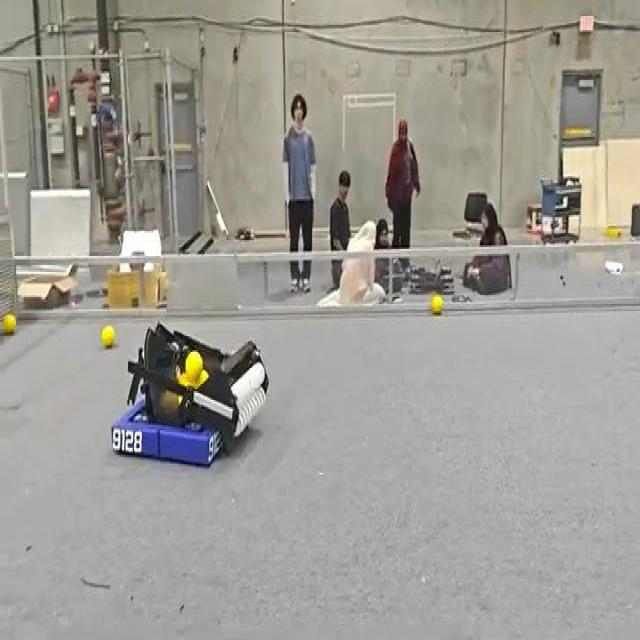Fuel: (184, 350, 202, 382), (101, 325, 115, 347), (3, 313, 16, 334), (3, 313, 15, 334), (431, 293, 442, 313), (432, 294, 442, 315)
